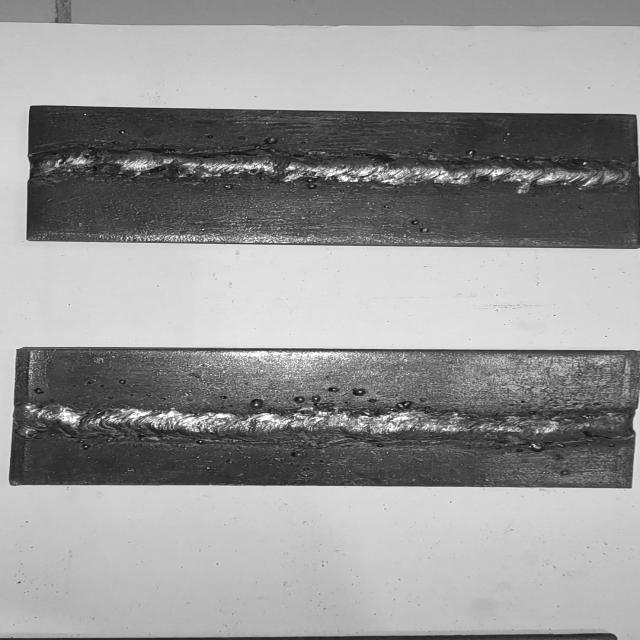Bad Weld: (20, 405, 634, 445)
Defect: (242, 382, 424, 410)
Good Weld: (37, 151, 640, 185)
